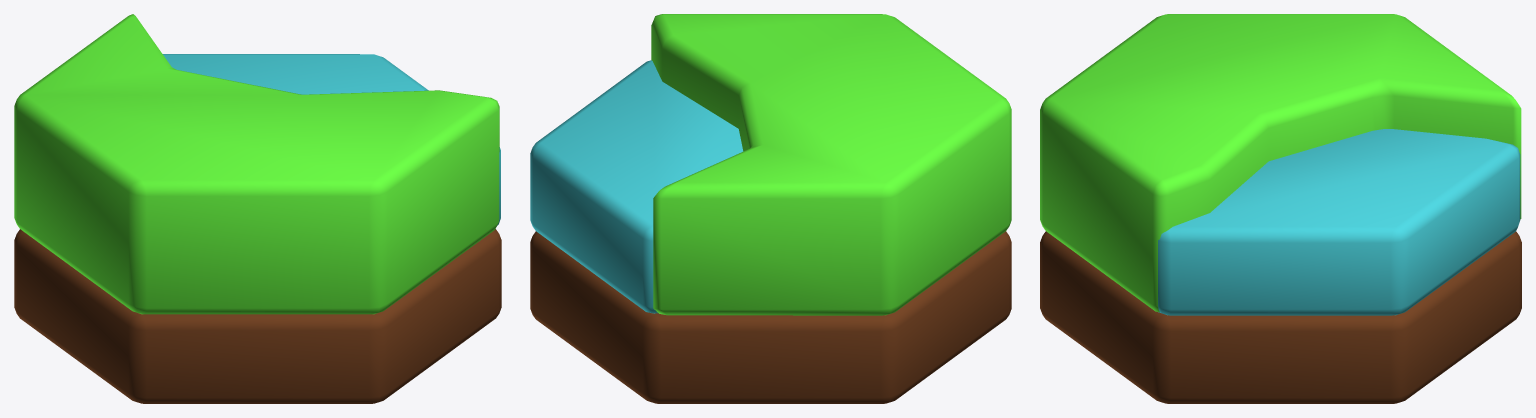
File: ground_water_grass.glb
3 renders of one model, left to right at view 1: azimuth 30°, elevation 25°; view 2: azimuth 150°, elevation 25°; view 3: azimuth 270°, elevation 25°, orthographic.
Visible parts, largest first — view 1: ground_water_grass; view 2: ground_water_grass; view 3: ground_water_grass.
Boxes of the visible parts, x1,y1,x2,y2 form: ground_water_grass: (14,14,501,403); ground_water_grass: (530,14,1011,403); ground_water_grass: (1040,14,1521,403).
Bounding box in the file's own units: 6.93 × 4 × 7.9.
